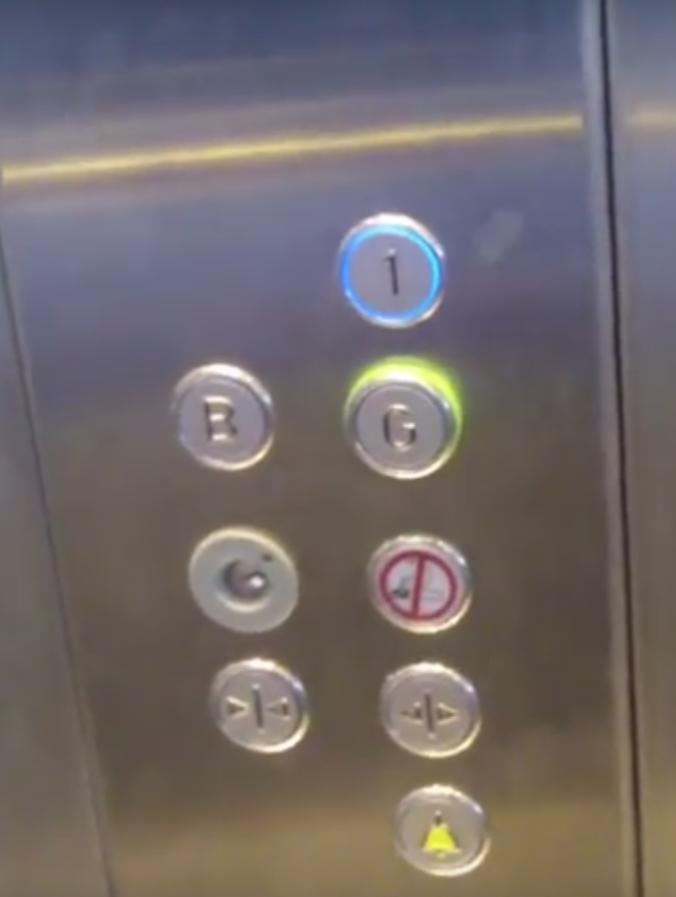1: (328, 209, 455, 333)
B: (162, 357, 281, 478)
G: (338, 351, 467, 486)
alarm: (385, 778, 496, 883)
close: (201, 653, 315, 759)
keyhole: (180, 521, 307, 640)
open: (373, 656, 488, 764)
unknown: (359, 529, 477, 639)
